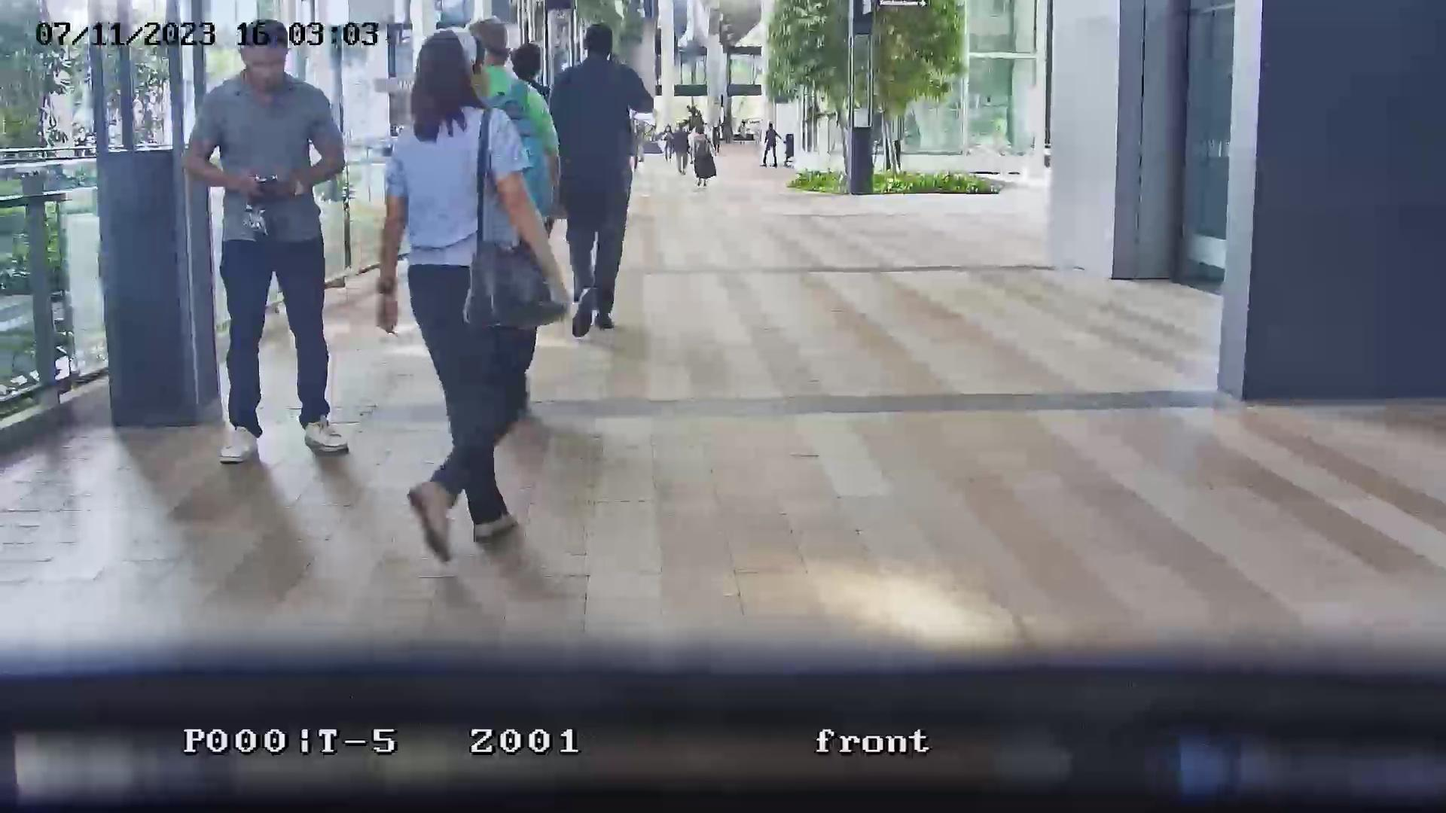person: (376, 27, 557, 562), (182, 17, 352, 465), (547, 23, 654, 340), (469, 15, 560, 230), (511, 41, 552, 96), (687, 124, 717, 190), (670, 123, 689, 174), (762, 123, 778, 166), (661, 125, 673, 162)
